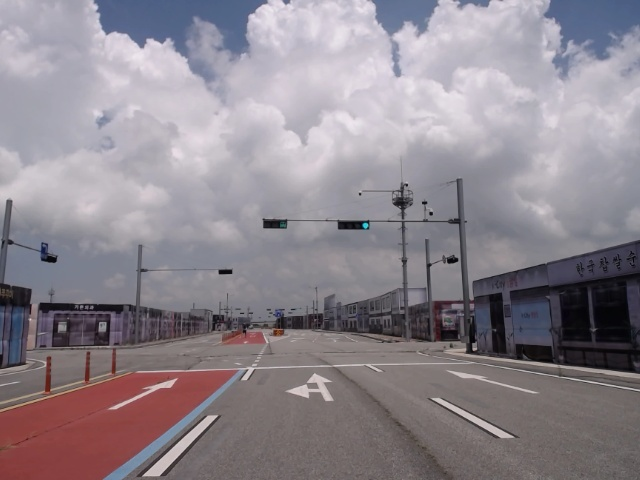straight_green_4: (338, 222, 370, 230)
